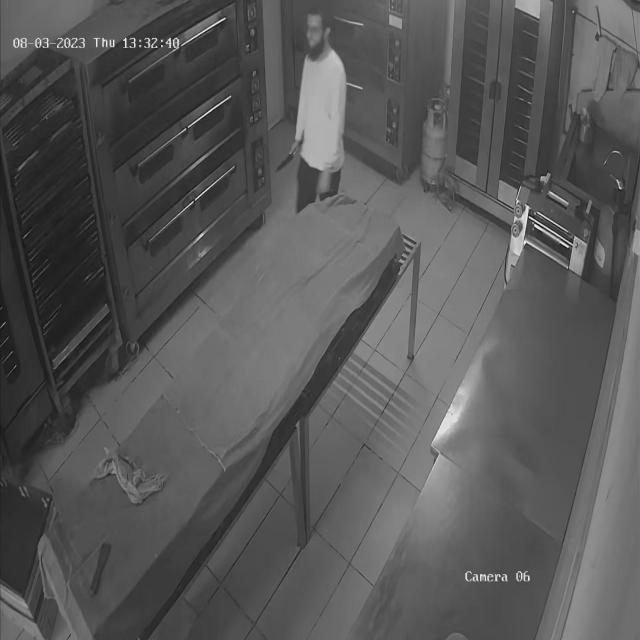Knife: (271, 142, 303, 182)
